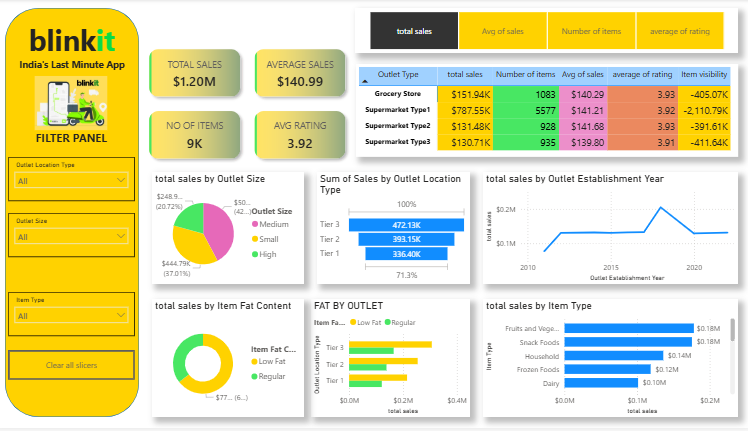

Layout of this report page (visuals, bound fields, positions):
{"tool":"powerbi","page":{"name":"Page 2","canvas":[1280,720],"ordinal":1},"visuals":[{"type":"shape","box":[25.2,15.1,225.1,687],"z":0},{"type":"textbox","box":[25.2,30.2,225.1,120.9],"z":1000},{"type":"cardVisual","fields":{"Data":["blinkit_data.total sales","blinkit_data.Avg of sales","blinkit_data.Number of items","blinkit_data.average of rating"]},"box":[250.3,67.2,364.5,215],"z":2000},{"type":"donutChart","fields":{"Y":["blinkit_data.total sales"],"Category":["blinkit_data.Item Fat Content"]},"box":[272.1,503.9,255.3,198.2],"z":3000},{"type":"slicer","fields":{"Values":["Metrics.Metrics"]},"box":[613.1,15.1,643.4,75.6],"z":4000},{"type":"clusteredBarChart","title":"FAT BY OUTLET","fields":{"Y":["blinkit_data.total sales"],"Category":["blinkit_data.Outlet Location Type"],"Series":["blinkit_data.Item Fat Content"]},"box":[539.2,503.9,267.1,198.2],"z":5000},{"type":"barChart","fields":{"Category":["blinkit_data.Item Type"],"Y":["blinkit_data.total sales"]},"box":[828.1,503.9,428.3,198.2],"z":5001},{"type":"lineChart","fields":{"Y":["blinkit_data.total sales"],"Category":["blinkit_data.Outlet Establishment Year"]},"box":[828.1,290.6,428.3,188.1],"z":5002},{"type":"pieChart","fields":{"Y":["blinkit_data.total sales"],"Category":["blinkit_data.Outlet Size"]},"box":[272.1,290.6,255.3,188.1],"z":5004},{"type":"funnel","fields":{"Y":["Sum(blinkit_data.Sales)"],"Category":["blinkit_data.Outlet Location Type"]},"box":[549.3,290.6,257,188.1],"z":5005},{"type":"pivotTable","fields":{"Values":["blinkit_data.total sales","blinkit_data.Number of items","blinkit_data.Avg of sales","blinkit_data.average of rating","Sum(blinkit_data.Item Visibility)"],"Rows":["blinkit_data.Outlet Type"]},"box":[614.8,109.2,641.7,156.2],"z":5006},{"type":"slicer","fields":{"Values":["blinkit_data.Outlet Location Type"]},"box":[30.2,265.4,213.3,73.9],"z":5008},{"type":"slicer","fields":{"Values":["blinkit_data.Outlet Size"]},"box":[30.2,359.5,213.3,73.9],"z":5009},{"type":"slicer","fields":{"Values":["blinkit_data.Item Type"]},"box":[30.2,467,213.3,73.9],"z":5010},{"type":"actionButton","box":[30.2,552.7,213.3,50.4],"z":5011},{"type":"textbox","box":[47,215,179.7,50.4],"z":5012}]}

Visuals, with their boxes in screenshot pixels (x1, y1, x2, y2), scaled from the page's 1280x720 canvas onto the 748x431 screenshot:
shape: (15, 9, 146, 420)
textbox: (15, 18, 146, 90)
cardVisual - blinkit_data.total sales x blinkit_data.Avg of sales: (146, 40, 359, 169)
donutChart - blinkit_data.total sales x blinkit_data.Item Fat Content: (159, 302, 308, 420)
slicer - Metrics.Metrics: (358, 9, 734, 54)
"FAT BY OUTLET" clusteredBarChart: (315, 302, 471, 420)
barChart - blinkit_data.Item Type x blinkit_data.total sales: (484, 302, 734, 420)
lineChart - blinkit_data.total sales x blinkit_data.Outlet Establishment Year: (484, 174, 734, 287)
pieChart - blinkit_data.total sales x blinkit_data.Outlet Size: (159, 174, 308, 287)
funnel - Sum(blinkit_data.Sales) x blinkit_data.Outlet Location Type: (321, 174, 471, 287)
pivotTable - blinkit_data.total sales x blinkit_data.Number of items: (359, 65, 734, 159)
slicer - blinkit_data.Outlet Location Type: (18, 159, 142, 203)
slicer - blinkit_data.Outlet Size: (18, 215, 142, 259)
slicer - blinkit_data.Item Type: (18, 280, 142, 324)
actionButton: (18, 331, 142, 361)
textbox: (27, 129, 132, 159)
